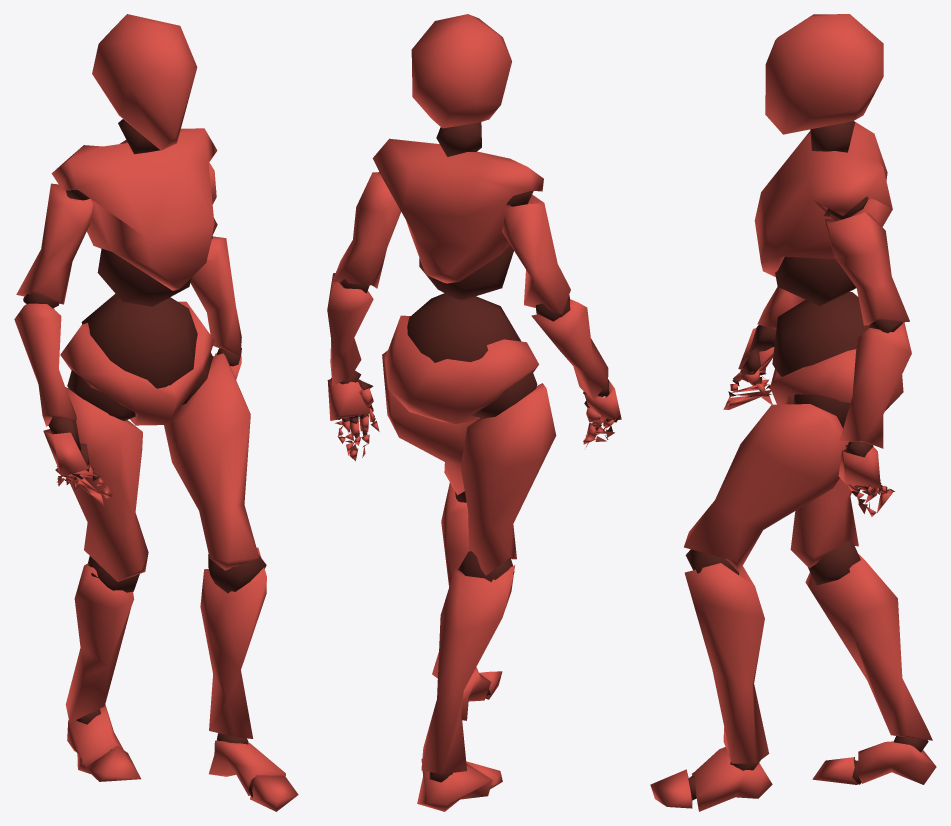
The picture shows the model from 3 angles, left to right: view 1: azimuth 30°, elevation 25°; view 2: azimuth 150°, elevation 25°; view 3: azimuth 270°, elevation 25°; orthographic projection. The views are drawn at different scales.
Parts seen in each view (by area): view 1: Beta_Surface; view 2: Beta_Surface; view 3: Beta_Surface.
Boxes of the visible parts, left/top/right/bottom form: Beta_Surface: left=14, top=14, right=298, bottom=811; Beta_Surface: left=327, top=14, right=621, bottom=811; Beta_Surface: left=650, top=14, right=936, bottom=811.
Size of the model in its own units: 4.77 by 14.38 by 4.81.
